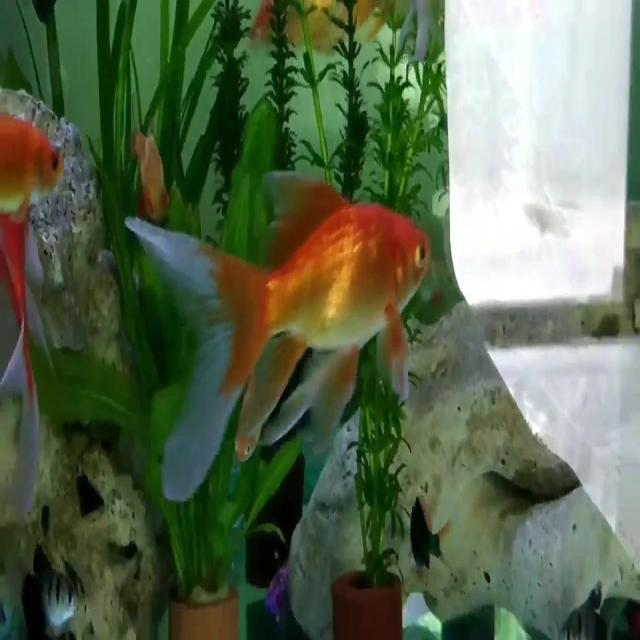GoldFish: (114, 171, 433, 514), (0, 106, 63, 216)
